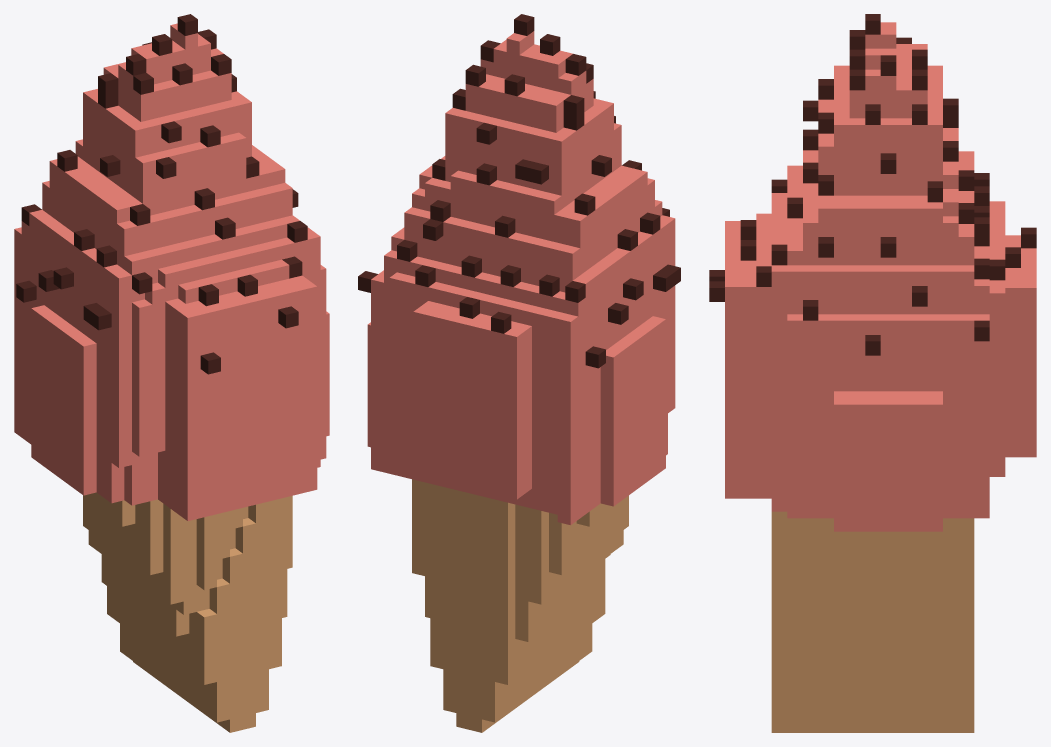
The model's file is Eruption-10.obj.
3 views of the same model, side by side, from view 1: azimuth 30°, elevation 25°; view 2: azimuth 150°, elevation 25°; view 3: azimuth 270°, elevation 25° (orthographic). The views are drawn at different scales.
Bounding box in the file's own units: 1.9 × 5 × 2.1.
Materials: 1 (1 with a texture image).
